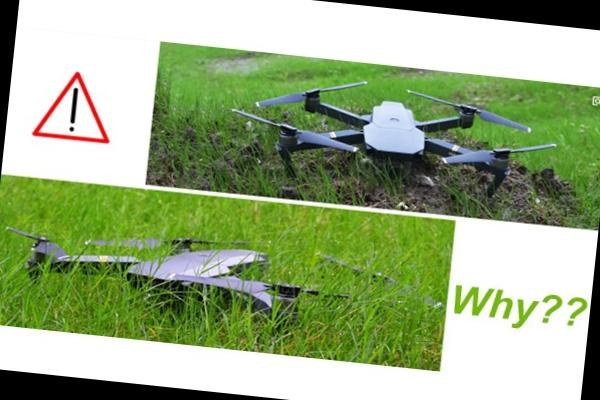drone: (0, 206, 420, 349), (233, 64, 570, 218)
